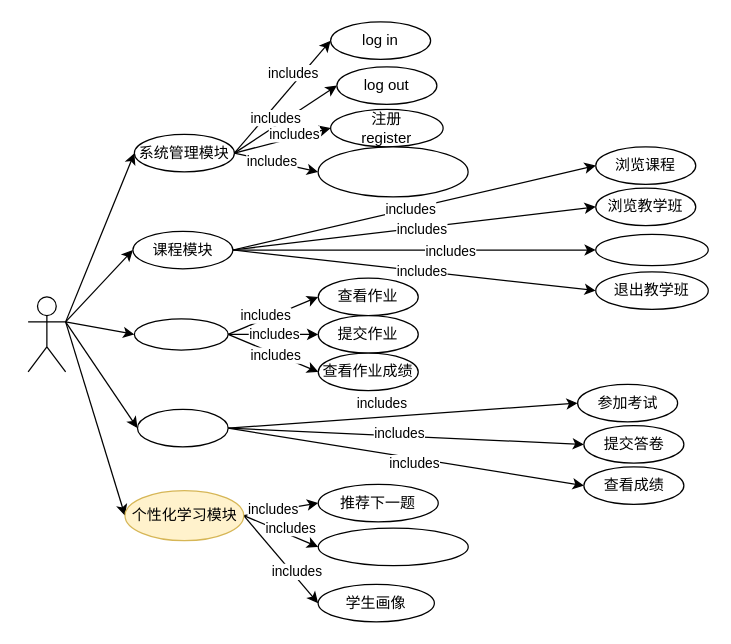
The diagram is 731 pixels wide and 644 high, and some of its shapes have lost their labels. Each missing label, with the centre of its shape:
Student: the point at 46,334
作业模块: the point at 180,334
修改自己账户密码: the point at 392,171
加入教学班: the point at 651,249
查看对知识点掌握度: the point at 392,546
考试模块: the point at 182,427
